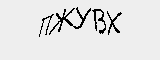В: (89, 7, 107, 34)
Ж: (47, 7, 73, 39)
П: (36, 10, 53, 39)
У: (71, 5, 92, 34)
Х: (103, 10, 125, 36)
